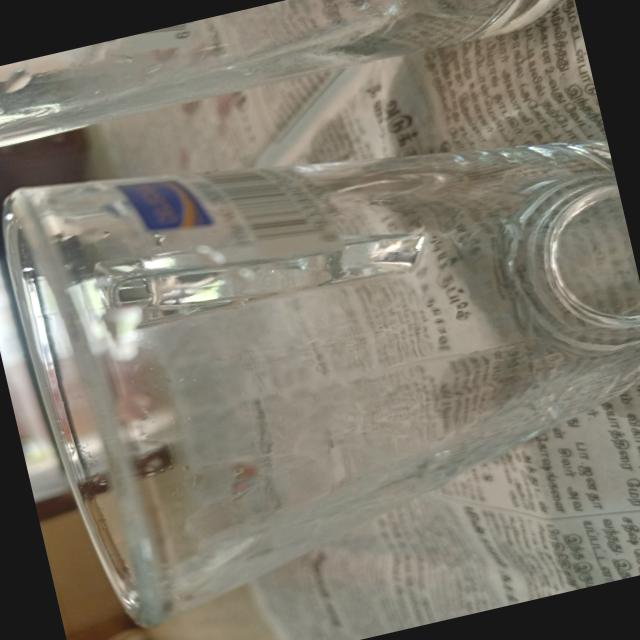glass-VX4N: (0, 59, 640, 640), (0, 0, 578, 161)
